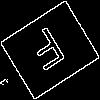F: (25, 25, 73, 80)
